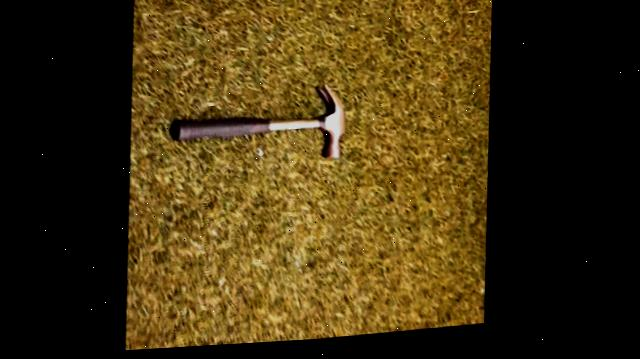hammer: (166, 77, 359, 179)
